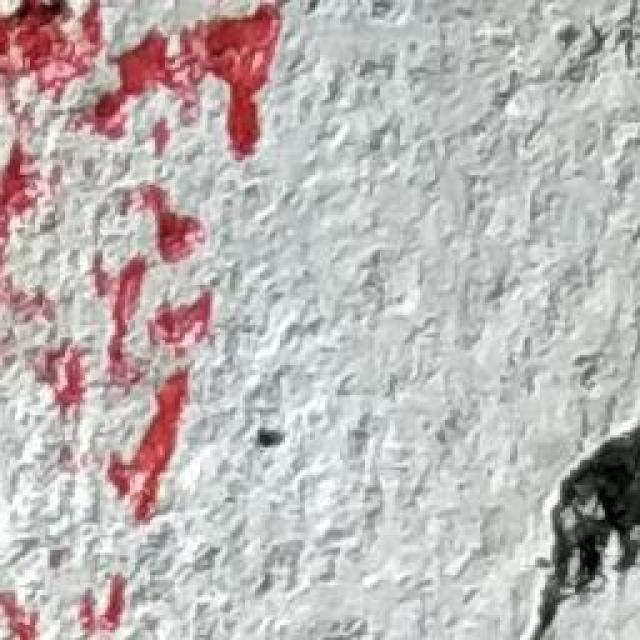Diagonal: (533, 406, 640, 640)
Rippled: (0, 0, 459, 640)
